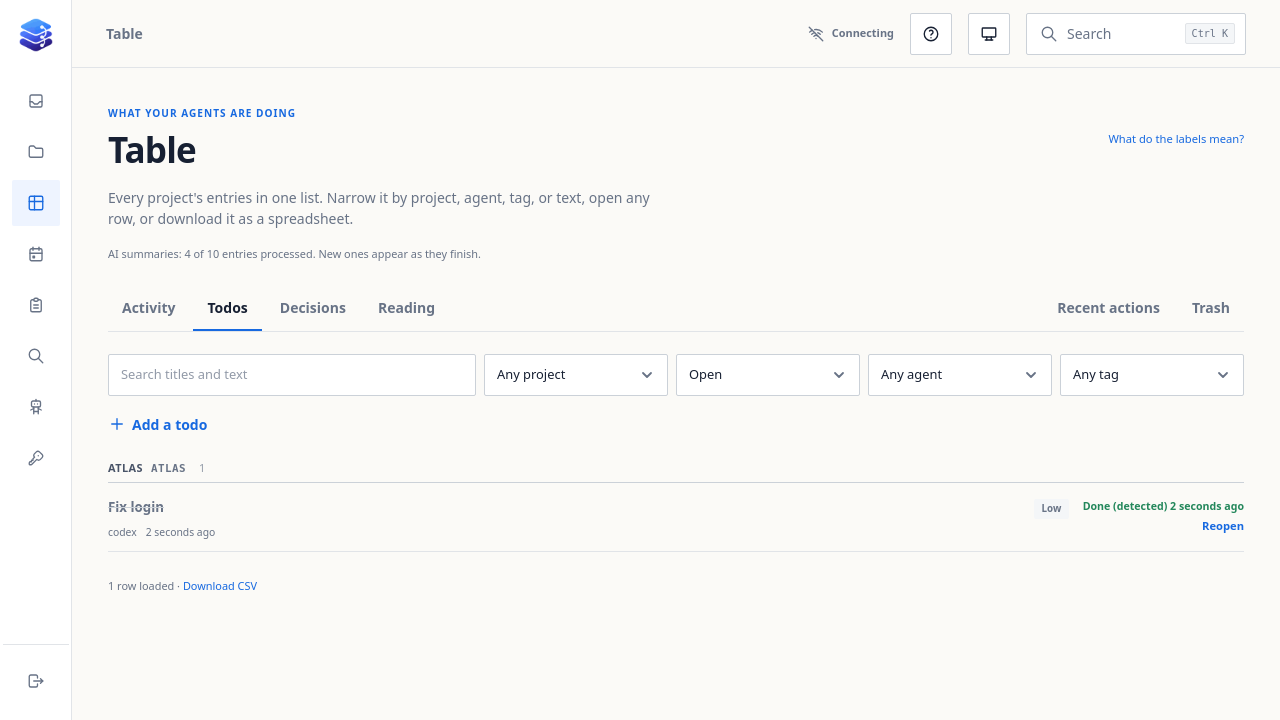
Test: table › shows done todos with a reopen action
This screenshot has width=1280, height=720.
Check: the button "Fix login" is shown, box [108, 498, 1024, 517]
Select "Done" in the 2nd dropdown named "filter by state" at (768, 375), box [676, 354, 860, 396]
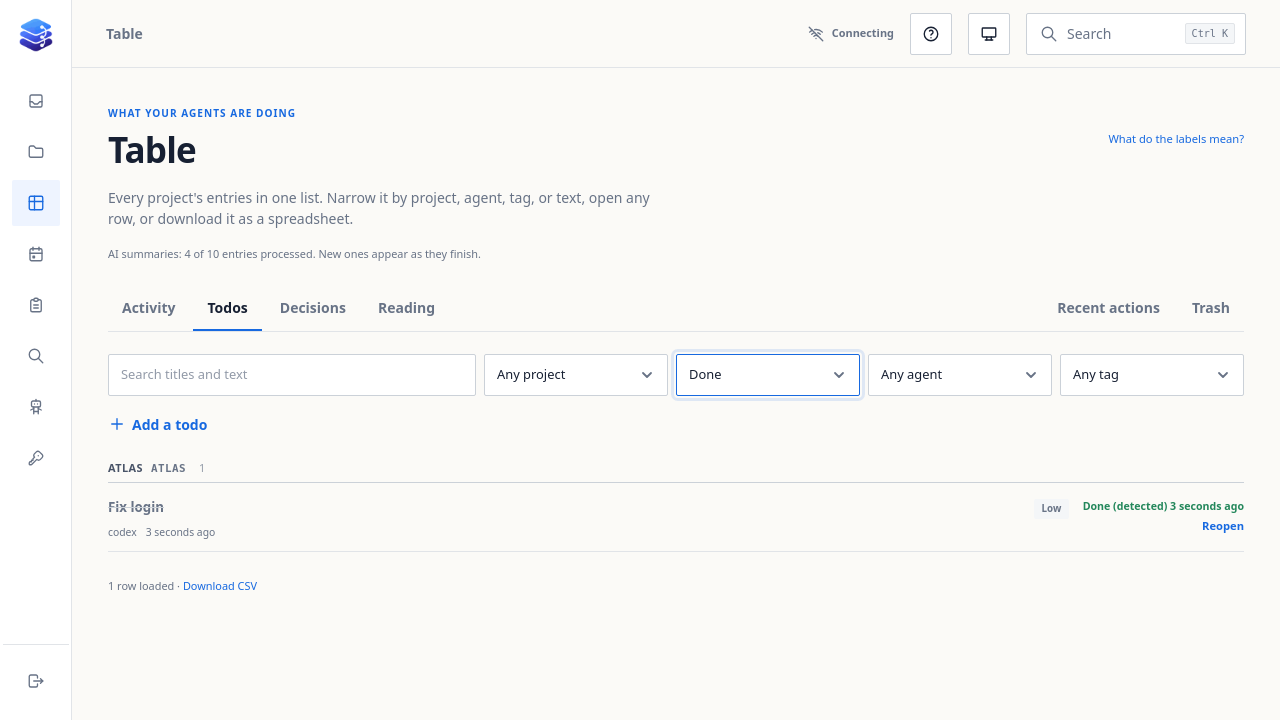
Check: the text "Done (detected)" is shown, box [1083, 498, 1244, 515]
Click the button "Reopen" at (1223, 525), box [1202, 517, 1244, 534]
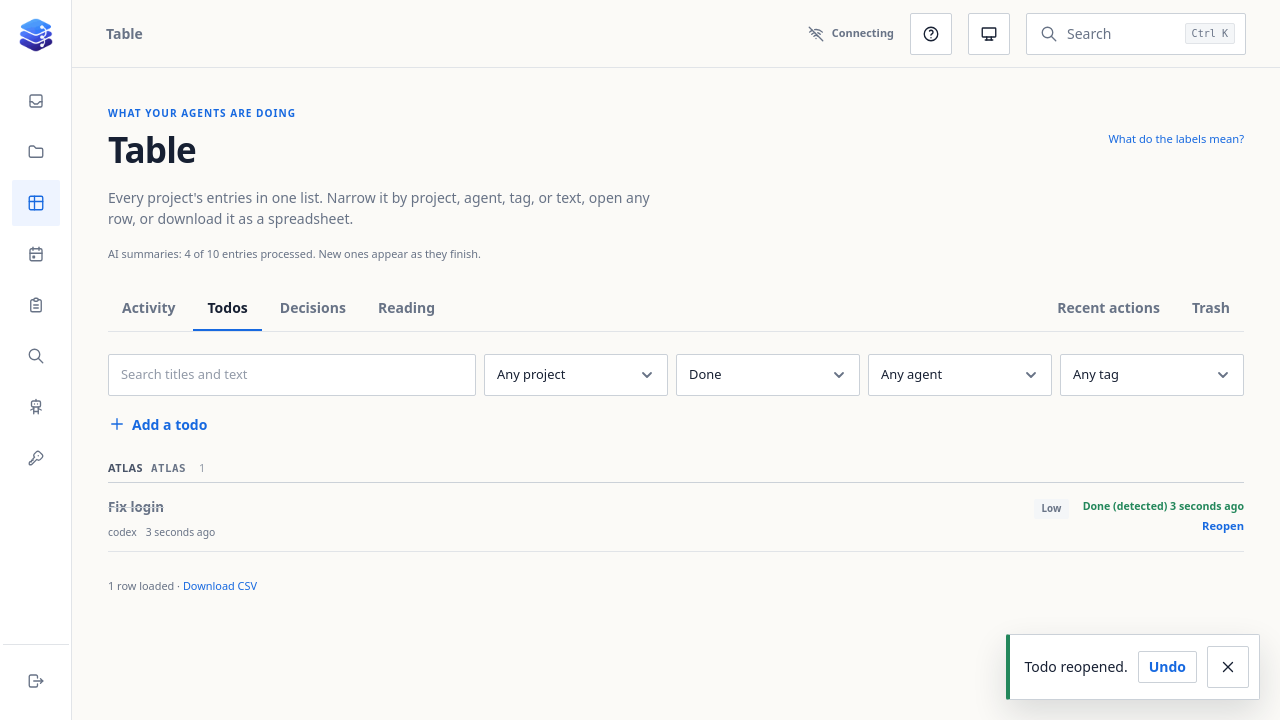
Check: the text "Todo reopened." is shown, box [1024, 656, 1128, 678]
